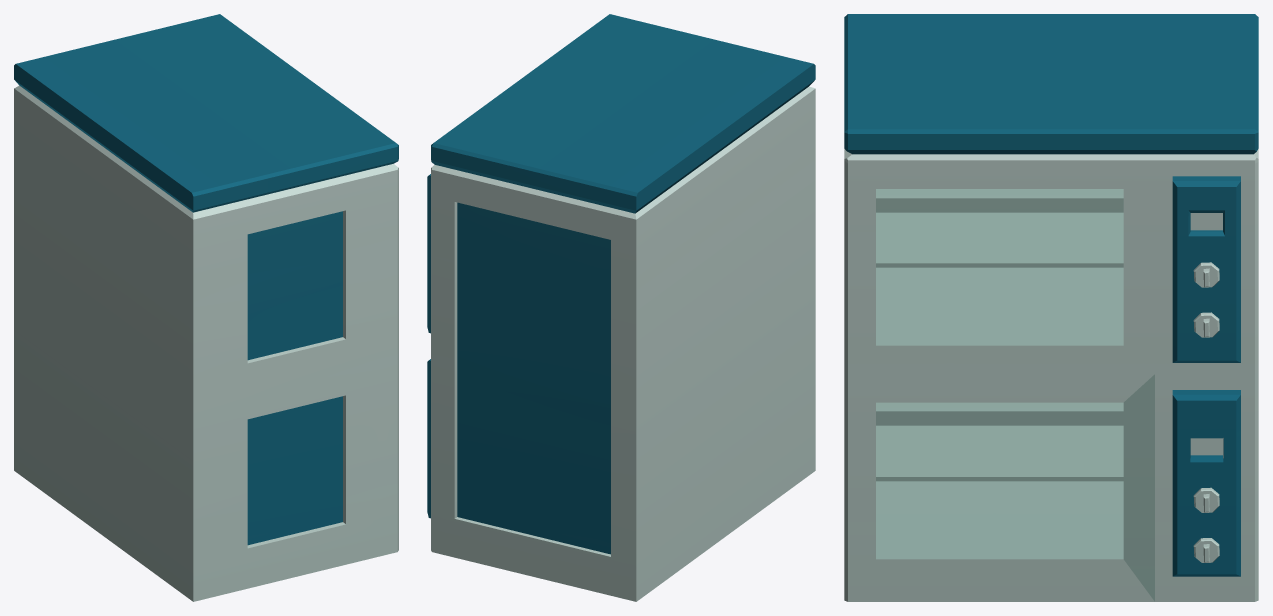
The model's file is oven.glb.
The picture shows the model from 3 angles, left to right: view 1: azimuth 30°, elevation 25°; view 2: azimuth 150°, elevation 25°; view 3: azimuth 270°, elevation 25°; orthographic projection. The views are drawn at different scales.
Visible parts, largest first — view 1: Oven.001; view 2: Oven.001; view 3: Oven.001.
Part boxes in pixels (left/top/right/bottom): Oven.001: left=14, top=14, right=398, bottom=601; Oven.001: left=427, top=14, right=815, bottom=601; Oven.001: left=844, top=14, right=1258, bottom=601.
Size of the model in its own units: 1.1 by 1.88 by 1.5.
Materials: 1 (1 with a texture image).
